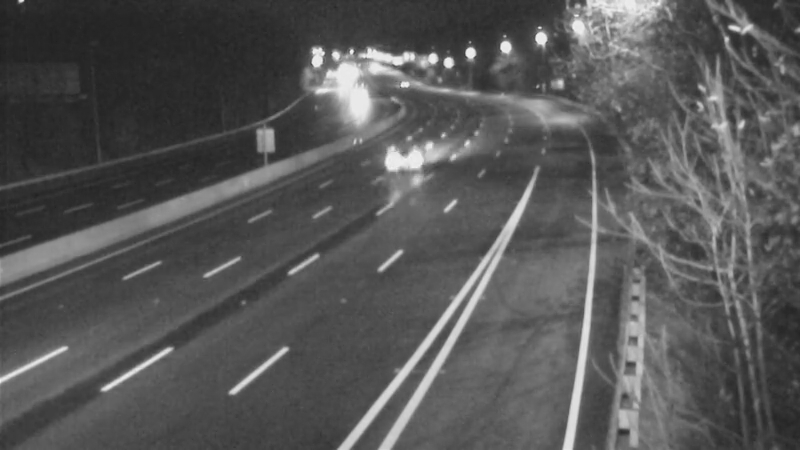vehicle: (365, 124, 445, 204), (379, 59, 429, 109), (329, 80, 379, 130)
